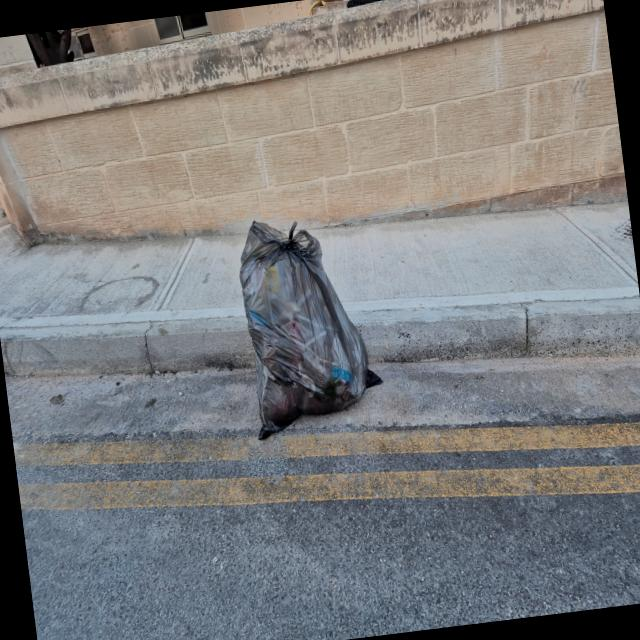black_bag: (220, 200, 378, 425)
